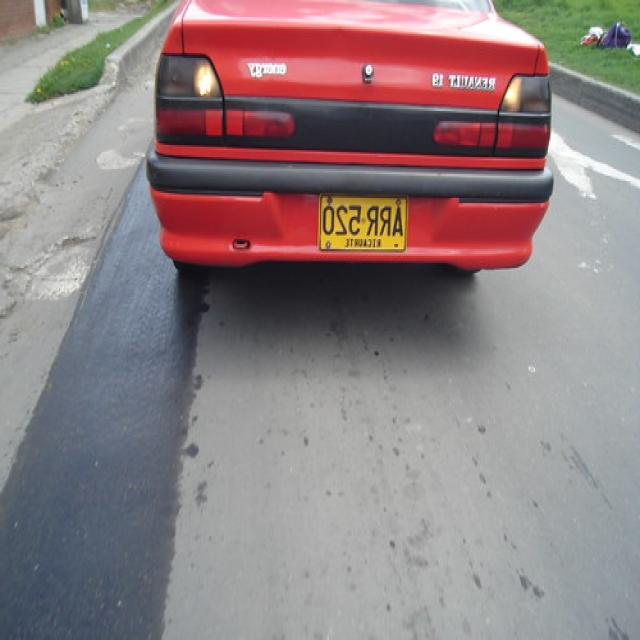placas: (320, 196, 407, 237)
